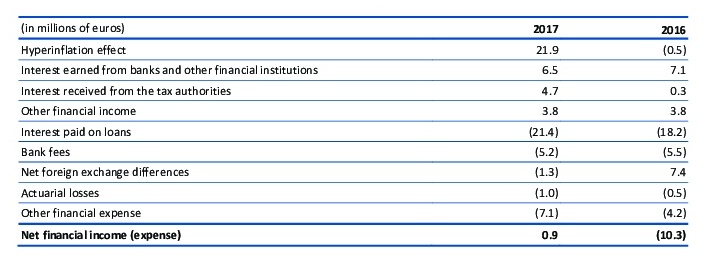table: (0, 0, 707, 264)
